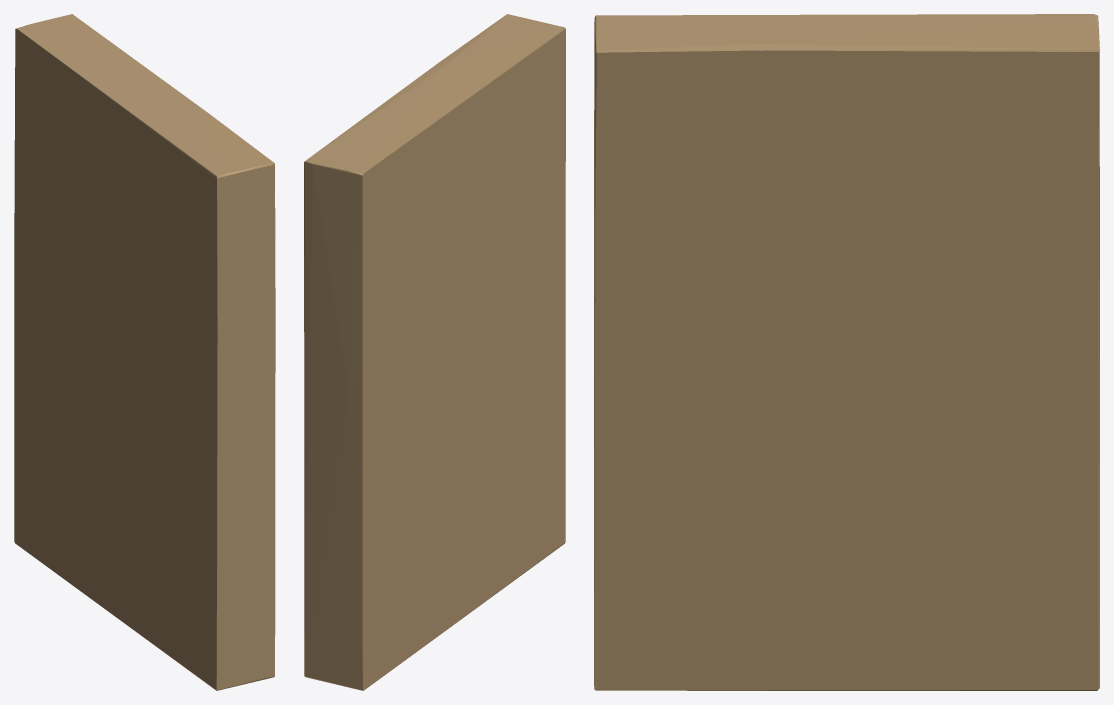
Rendered from socket_b01.glb.
The picture shows the model from 3 angles, left to right: view 1: azimuth 30°, elevation 25°; view 2: azimuth 150°, elevation 25°; view 3: azimuth 270°, elevation 25°; orthographic projection. The views are drawn at different scales.
Visible parts, largest first — view 1: geometry_0; view 2: geometry_0; view 3: geometry_0.
Part boxes in pixels (x1,y1,x2,y2): geometry_0: [14, 14, 275, 690]; geometry_0: [304, 14, 565, 690]; geometry_0: [594, 14, 1099, 690].
Bounding box in the file's own units: 0.0573 × 0.48 × 0.3427.
